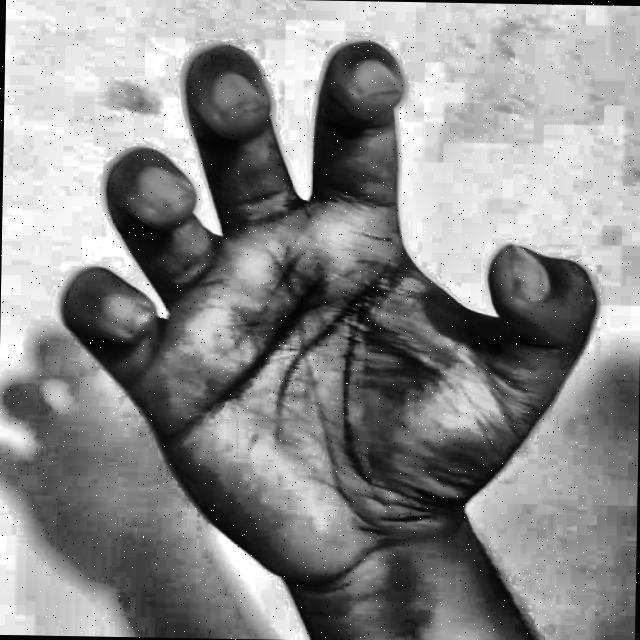Ja: (42, 22, 616, 636)
